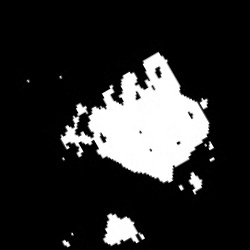crack: (62, 53, 209, 181), (190, 171, 200, 196)
pinhole: (63, 240, 72, 246), (208, 157, 215, 162), (208, 143, 213, 150), (71, 232, 77, 235), (59, 74, 62, 79), (180, 185, 183, 190), (62, 156, 64, 161), (27, 79, 30, 82)
spot: (104, 213, 142, 245)
